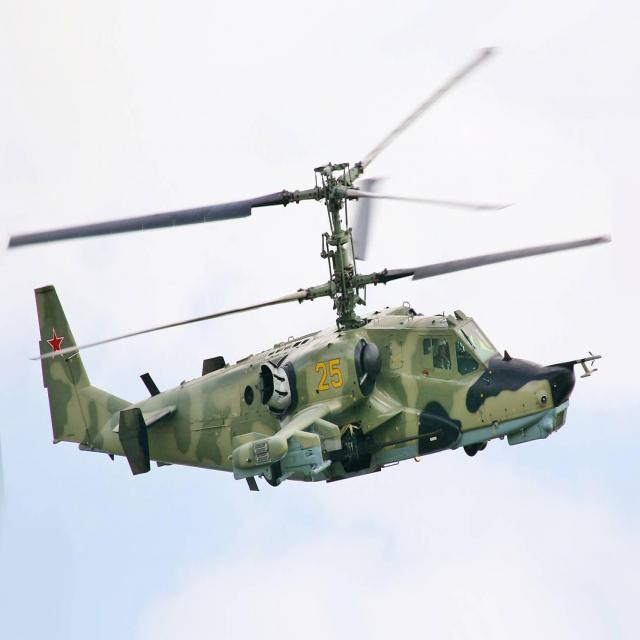MIL_HELO: (13, 33, 619, 486)
